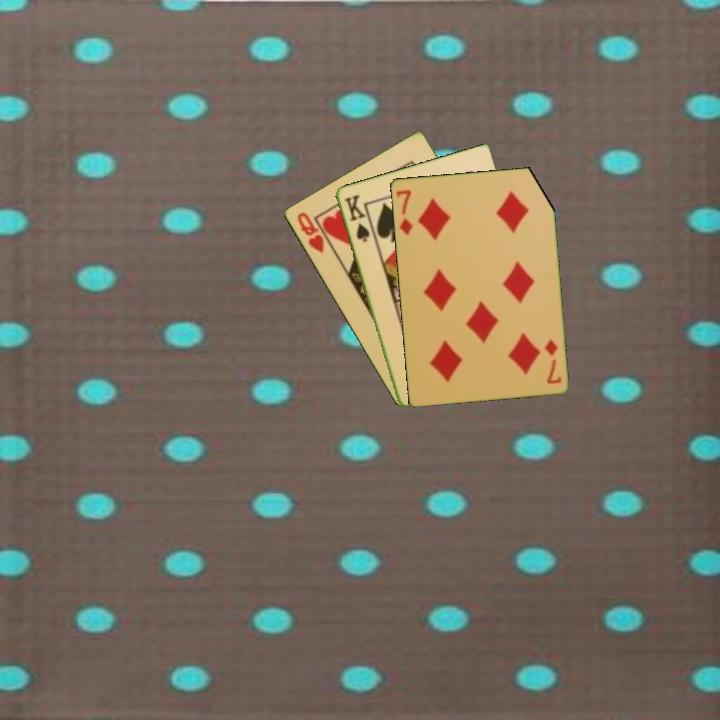7d: (392, 186, 415, 238), (541, 335, 564, 387)
Ks: (340, 191, 372, 245)
Qh: (293, 208, 327, 256)
